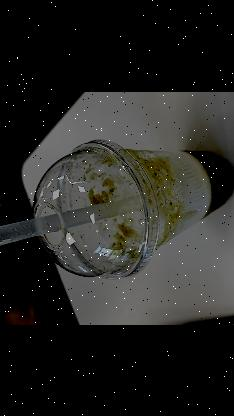Others: (30, 137, 234, 281), (30, 129, 162, 281), (0, 184, 142, 264)
